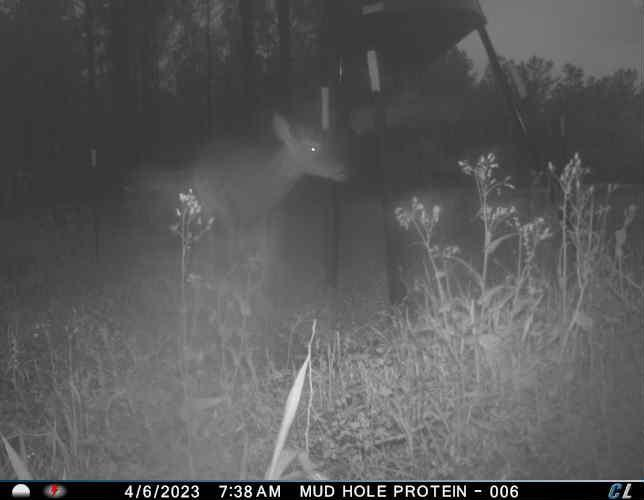Deer: (191, 106, 351, 261)
